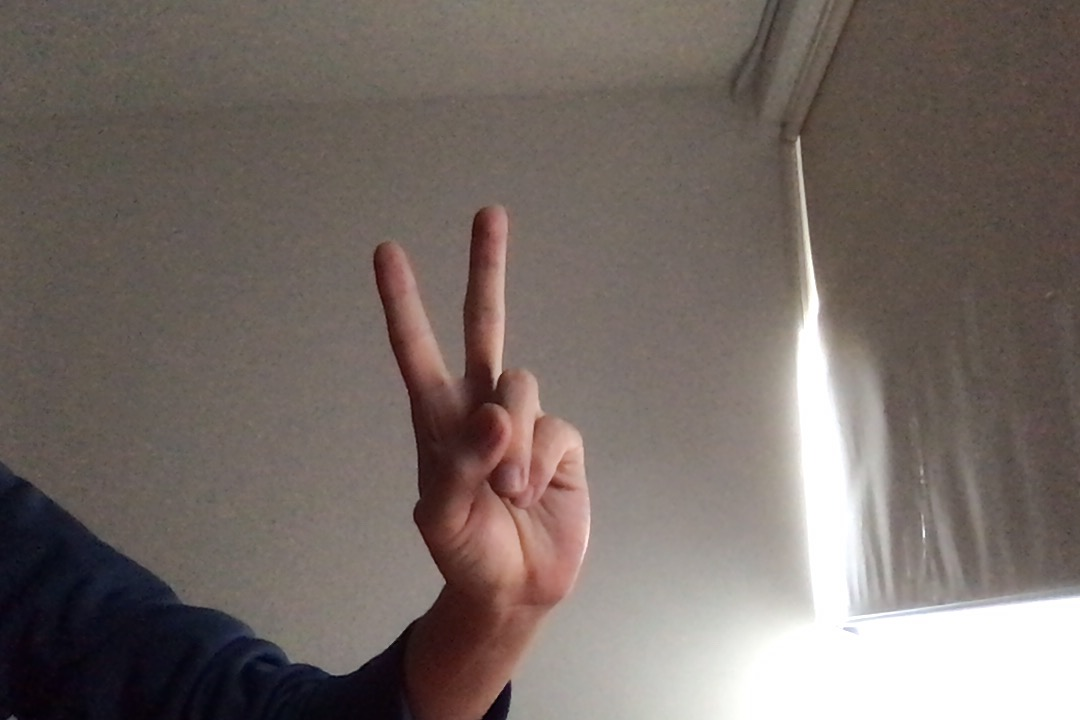peacesign: (357, 199, 605, 620)
